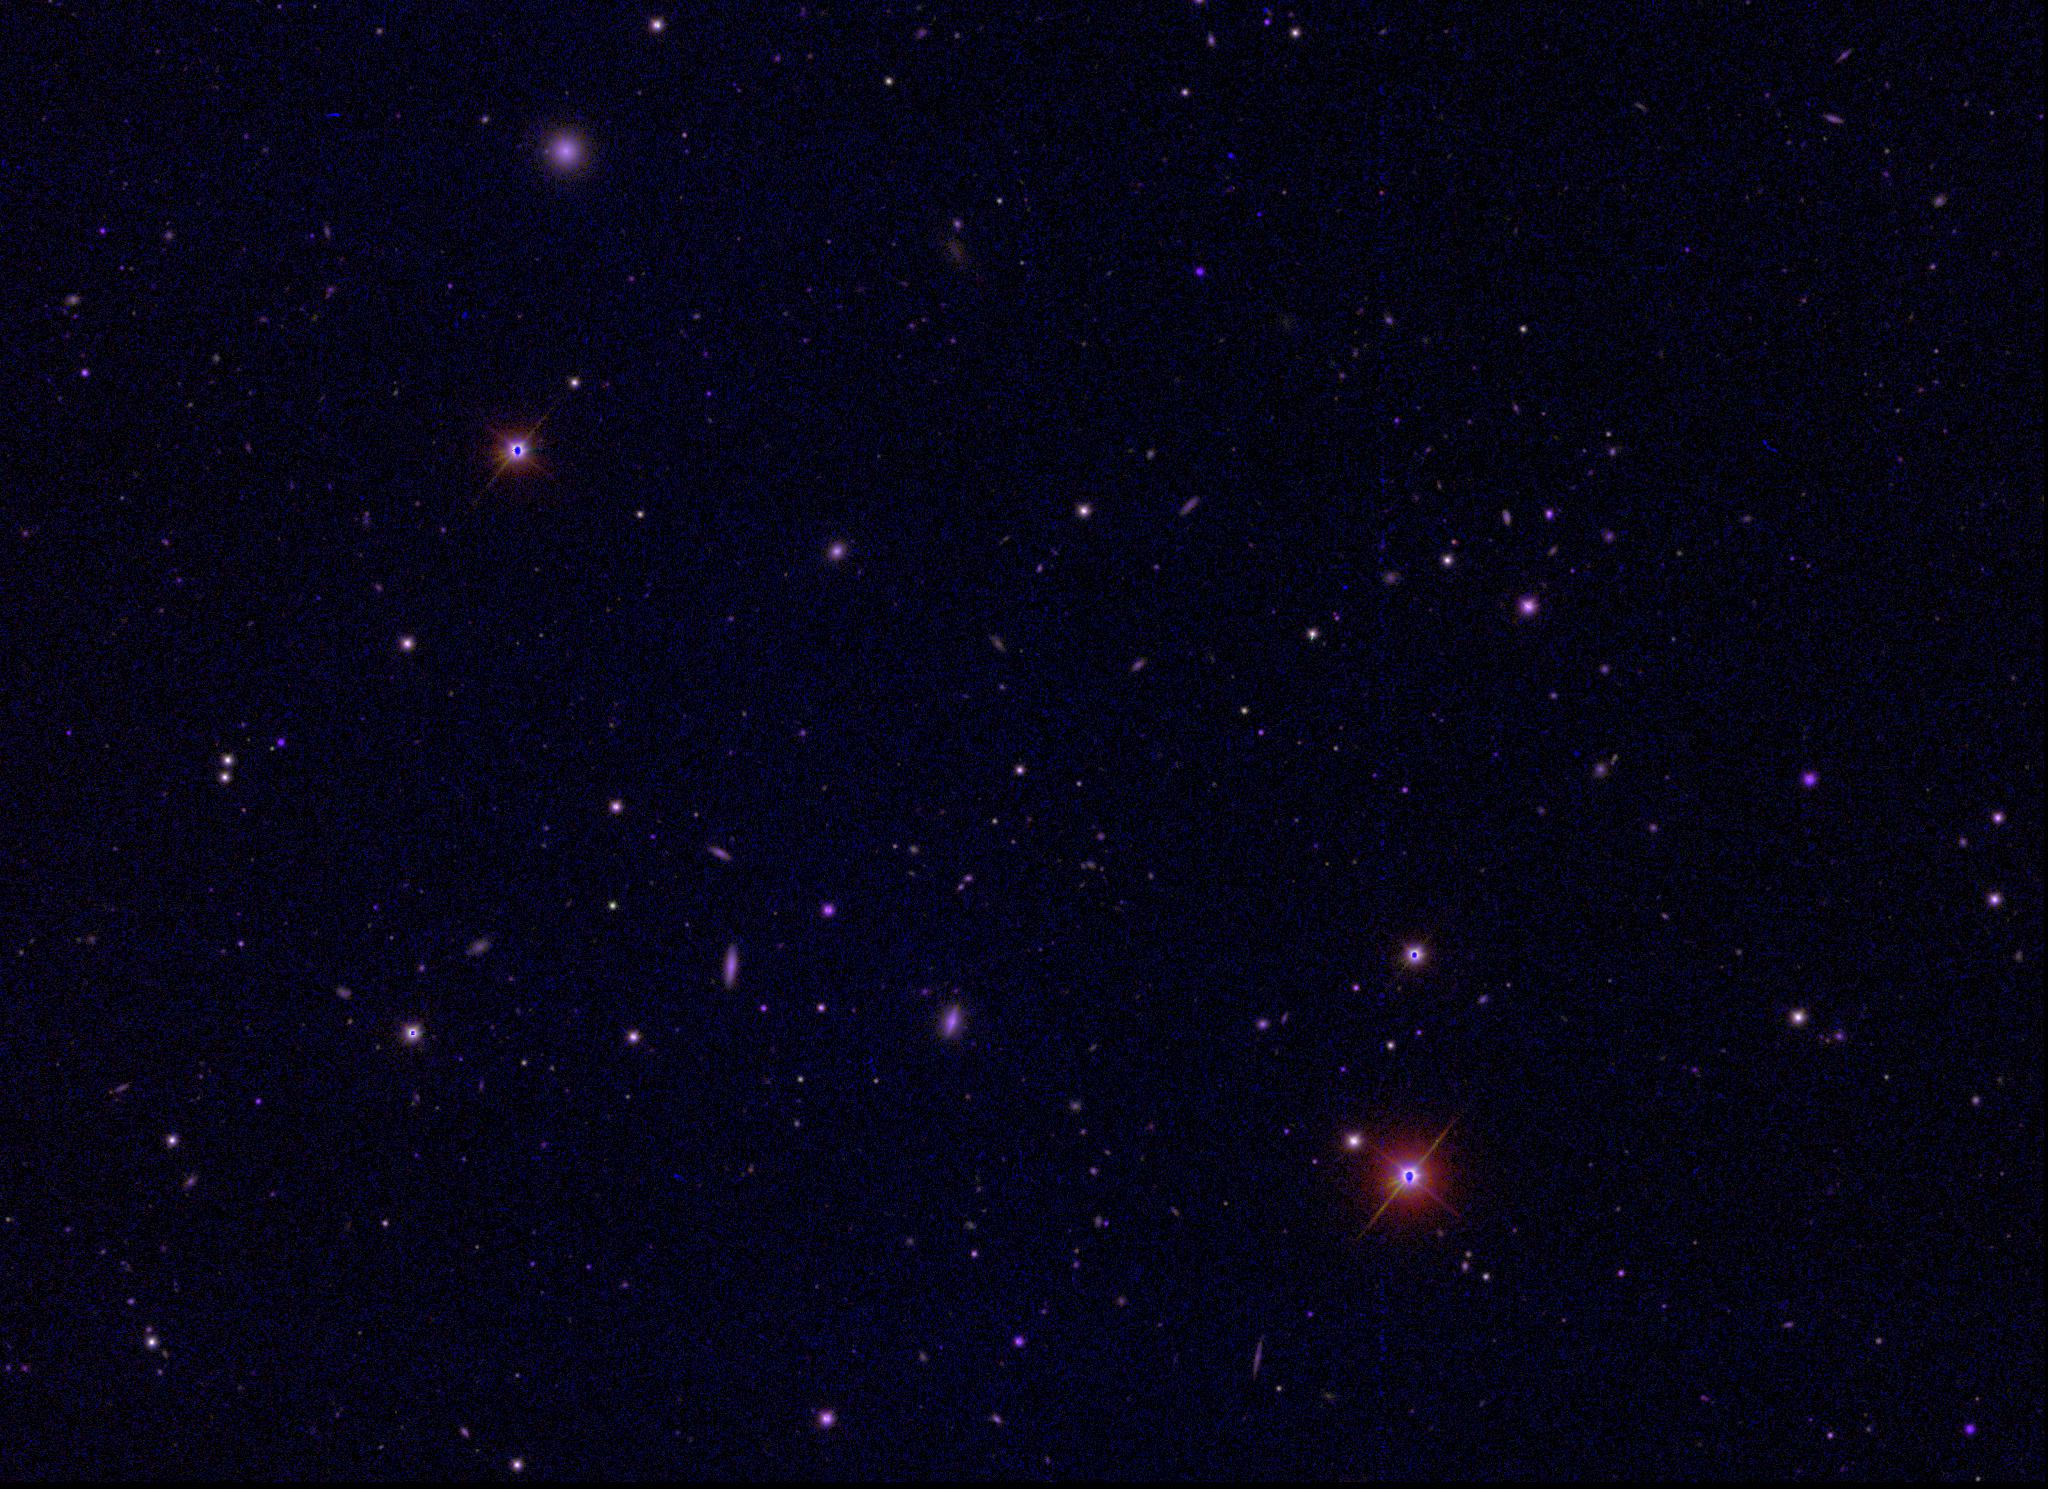L: (1226, 148, 1240, 162)
